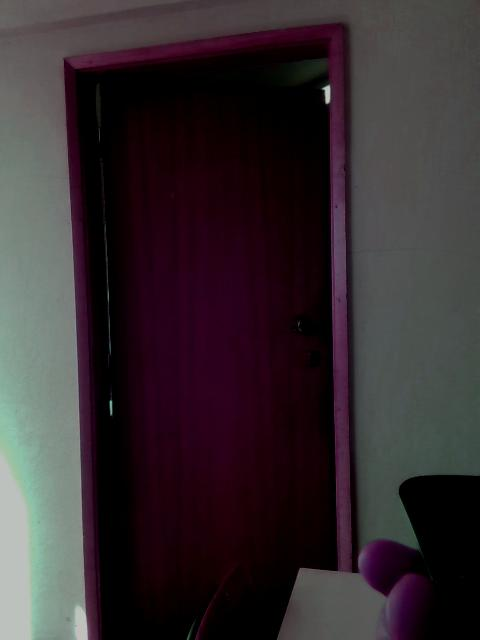closed_door: (65, 16, 356, 639)
